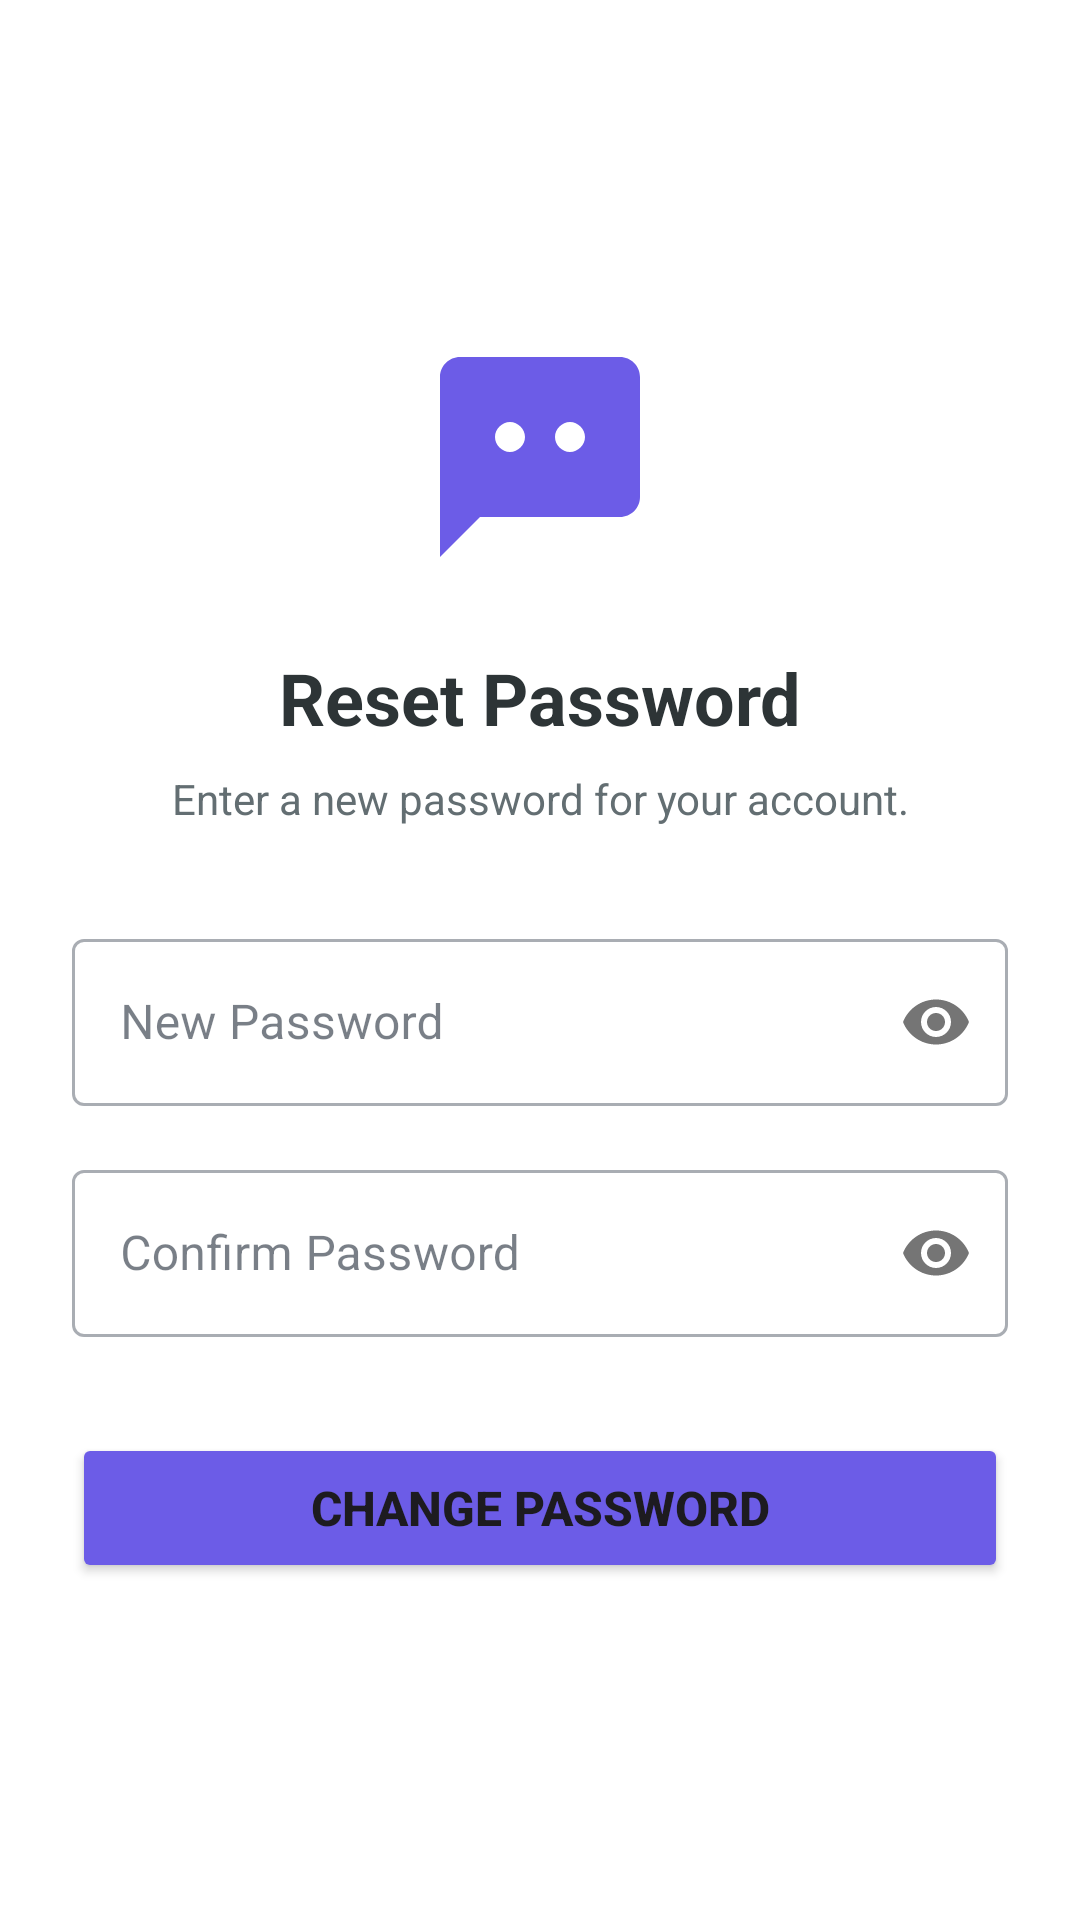

Locate icon controls on the screen. Image size 1080px x 1920px, boxes as BBox(x1, y1, x2, y2).
chatbot: BBox(440, 357, 640, 557)
